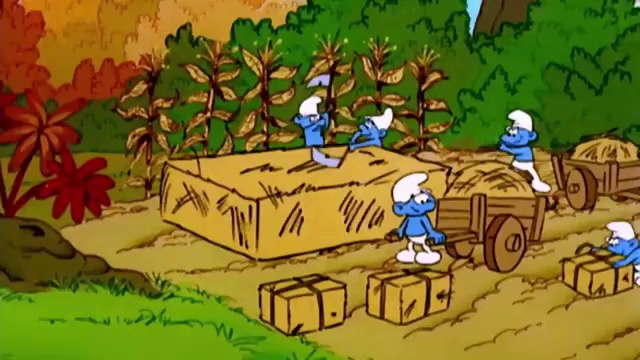smurf: (389, 170, 444, 266), (498, 108, 553, 194), (600, 220, 639, 289), (350, 107, 394, 150), (292, 95, 328, 145)
